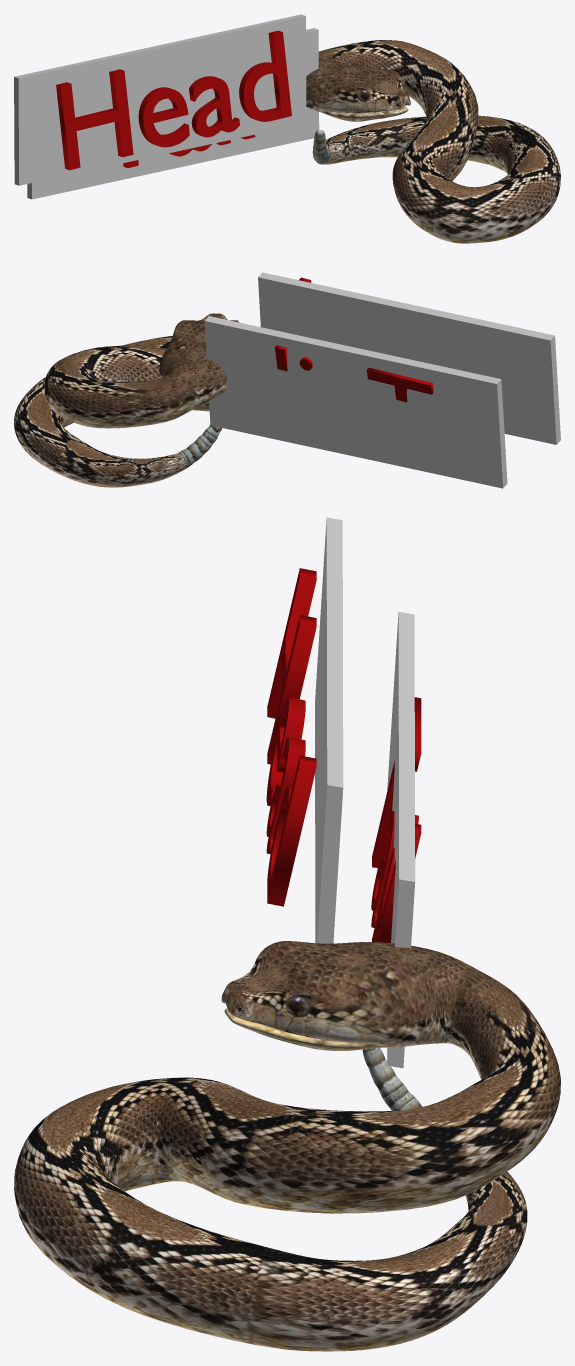
3 renders of one model, top to bottom at view 1: azimuth 30°, elevation 25°; view 2: azimuth 150°, elevation 25°; view 3: azimuth 270°, elevation 25°, orthographic. The views are drawn at different scales.
Visible parts, largest first — view 1: 10050_RattleSnake_v04, Text, Text.001; view 2: 10050_RattleSnake_v04, Text.001; view 3: 10050_RattleSnake_v04, Text, Text.001.
Part boxes in pixels (x1,y1,x2,y2): 10050_RattleSnake_v04: (14,14,560,243); Text: (56,30,291,170); Text.001: (123,134,255,167); 10050_RattleSnake_v04: (14,272,560,488); Text.001: (275,345,433,402); 10050_RattleSnake_v04: (14,517,560,1351); Text: (266,568,316,906); Text.001: (371,697,421,942).
Size of the model in its own units: 1.38 by 0.546 by 0.6922.
Materials: 3 (1 with a texture image).
